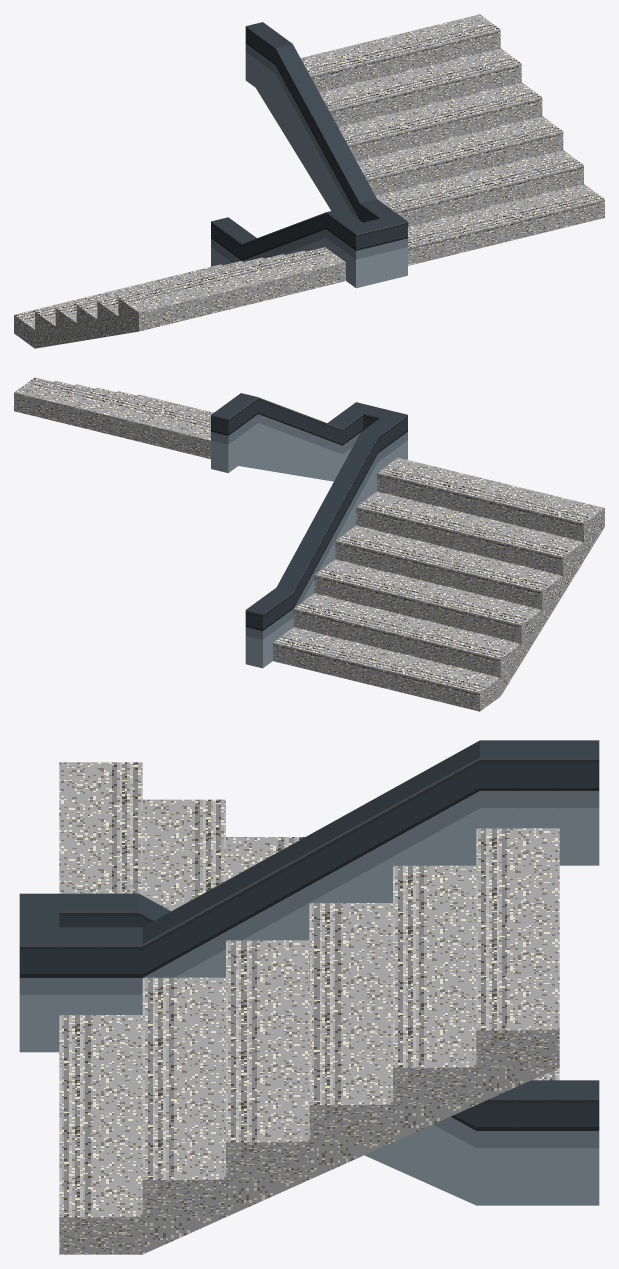
The model's file is stairs 1.fbx.
3 renders of one model, top to bottom at view 1: azimuth 30°, elevation 25°; view 2: azimuth 150°, elevation 25°; view 3: azimuth 270°, elevation 25°, orthographic. The views are drawn at different scales.
Visible parts, largest first — view 1: stairs.001, stair railing, stairs.004; view 2: stairs.004, stair railing, stairs.001; view 3: stairs.001, stair railing, stairs.004.
Boxes of the visible parts, x1,y1,x2,y2 form: stairs.001: [300, 14, 604, 265]; stair railing: [211, 22, 407, 288]; stairs.004: [14, 247, 345, 348]; stairs.004: [273, 457, 604, 711]; stair railing: [211, 393, 407, 668]; stairs.001: [14, 377, 213, 459]; stairs.001: [59, 828, 559, 1254]; stair railing: [19, 740, 599, 1205]; stairs.004: [59, 762, 559, 1080].
Size of the model in its own units: 900 by 445 by 485.
Materials: 1 (1 with a texture image).
